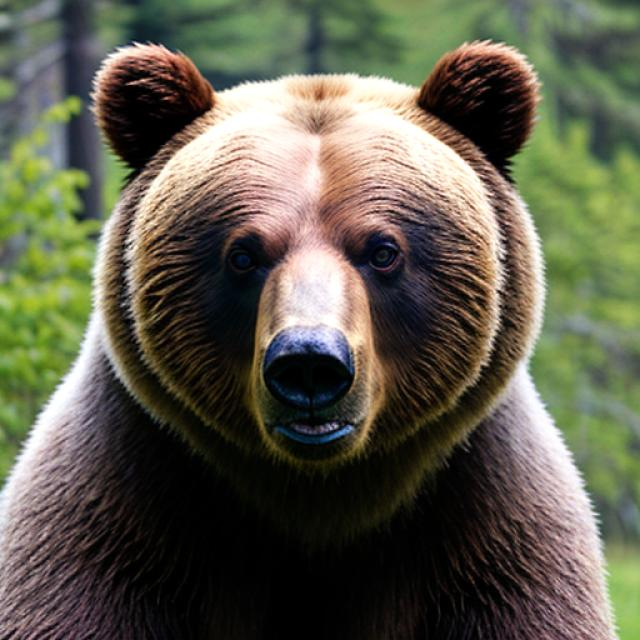bear: (66, 18, 584, 499)
